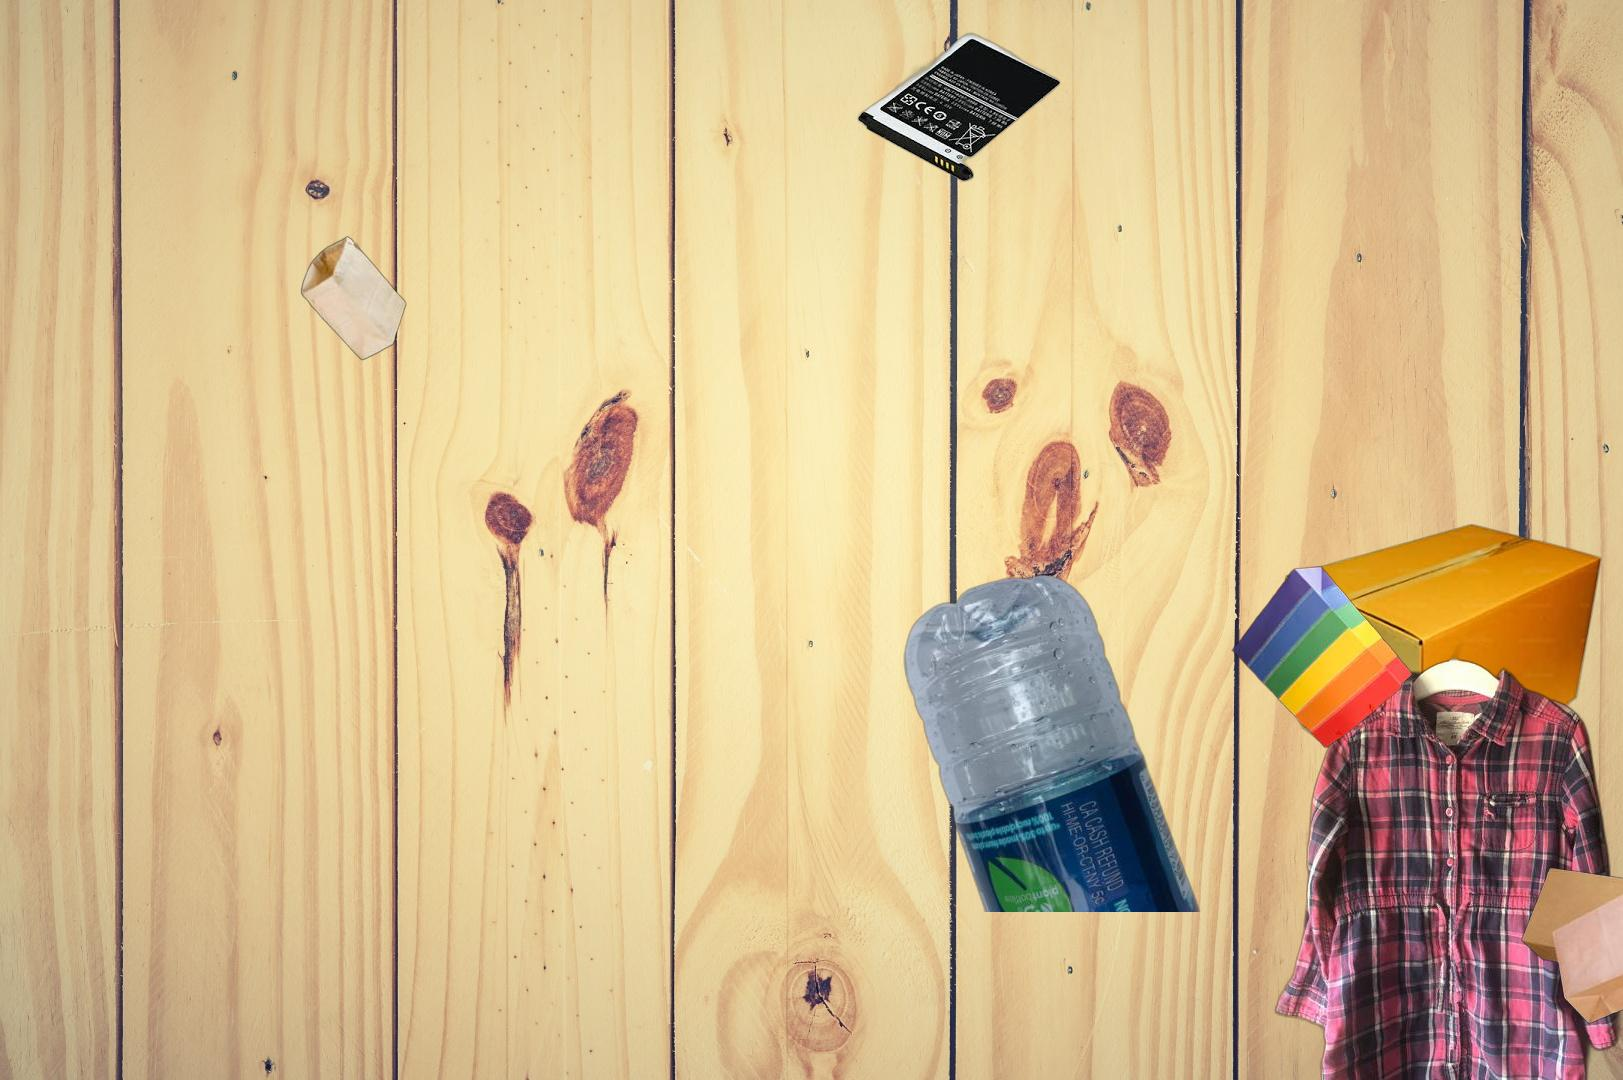battery: (854, 31, 1063, 184)
clothes: (1271, 640, 1623, 1080)
metal-cans: (911, 923, 1049, 1080)
paper-bag: (1229, 563, 1416, 751), (1519, 865, 1623, 1026), (298, 233, 407, 363)
plastic-bottles: (900, 571, 1202, 912)
trashbox-cardboard: (1283, 522, 1603, 814)
